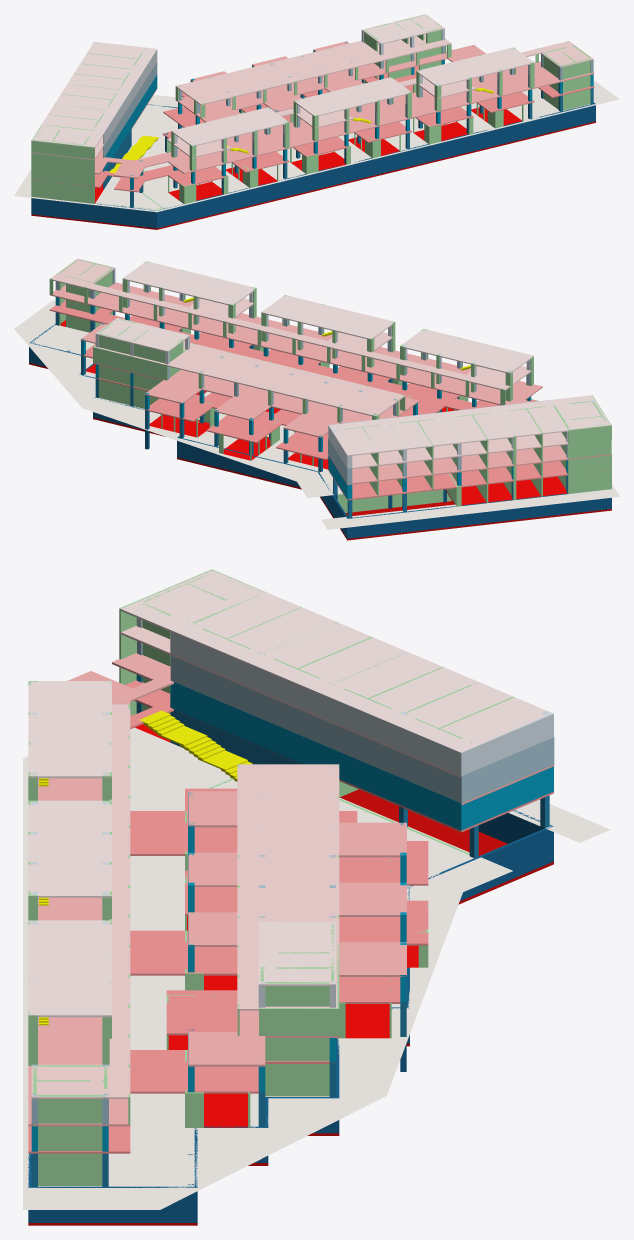
The model's file is LSW_SH.glb.
The picture shows the model from 3 angles, top to bottom: view 1: azimuth 30°, elevation 25°; view 2: azimuth 150°, elevation 25°; view 3: azimuth 270°, elevation 25°; orthographic projection. The views are drawn at different scales.
Visible parts, largest first — view 1: Geom3D (×34); view 2: Geom3D (×29); view 3: Geom3D (×27).
Boxes of the visible parts, bbox=[...] form: Geom3D (×34): bbox=[14, 14, 619, 229]; Geom3D (×29): bbox=[14, 258, 619, 540]; Geom3D (×27): bbox=[23, 570, 610, 1225].
Bounding box in the file's own units: 119 × 15.5 × 54.85.
